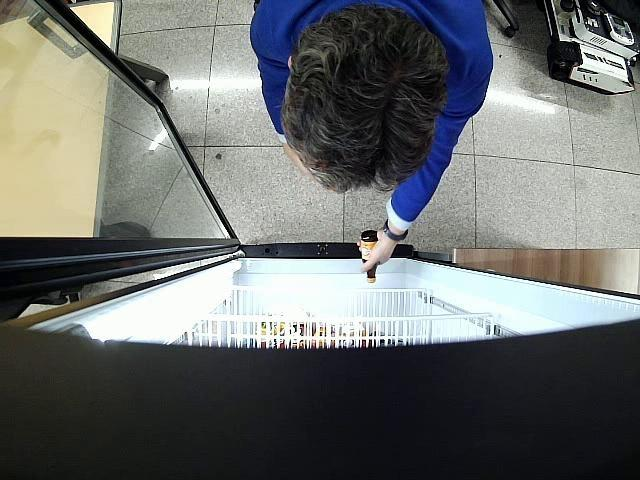17_vita500: (361, 230, 378, 284)
